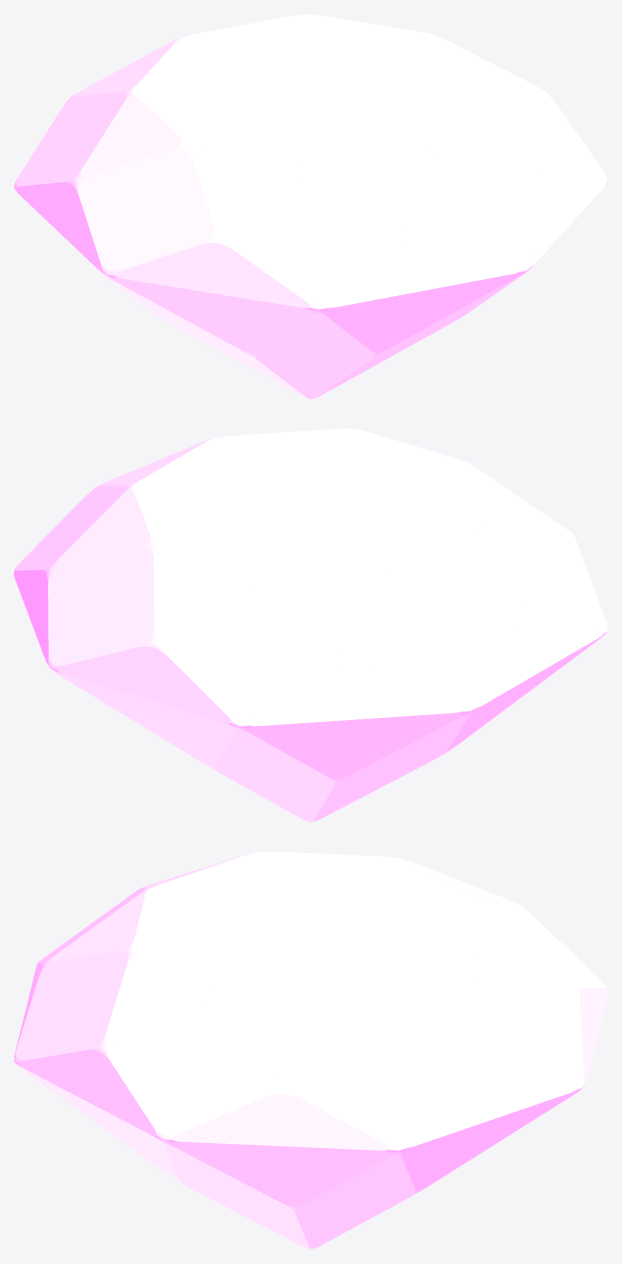
Rendered from diamond_gem.glb.
3 views of the same model, one above another, from view 1: azimuth 30°, elevation 25°; view 2: azimuth 150°, elevation 25°; view 3: azimuth 270°, elevation 25° (orthographic). The views are drawn at different scales.
Parts seen in each view (by area): view 1: Gem.001; view 2: Gem.001; view 3: Gem.001.
Part boxes in pixels (x1=…): Gem.001: x1=14, y1=14, x2=607, y2=399; Gem.001: x1=14, y1=428, x2=607, y2=822; Gem.001: x1=14, y1=851, x2=607, y2=1249.
Size of the model in its own units: 1.32 by 0.7896 by 1.32.
